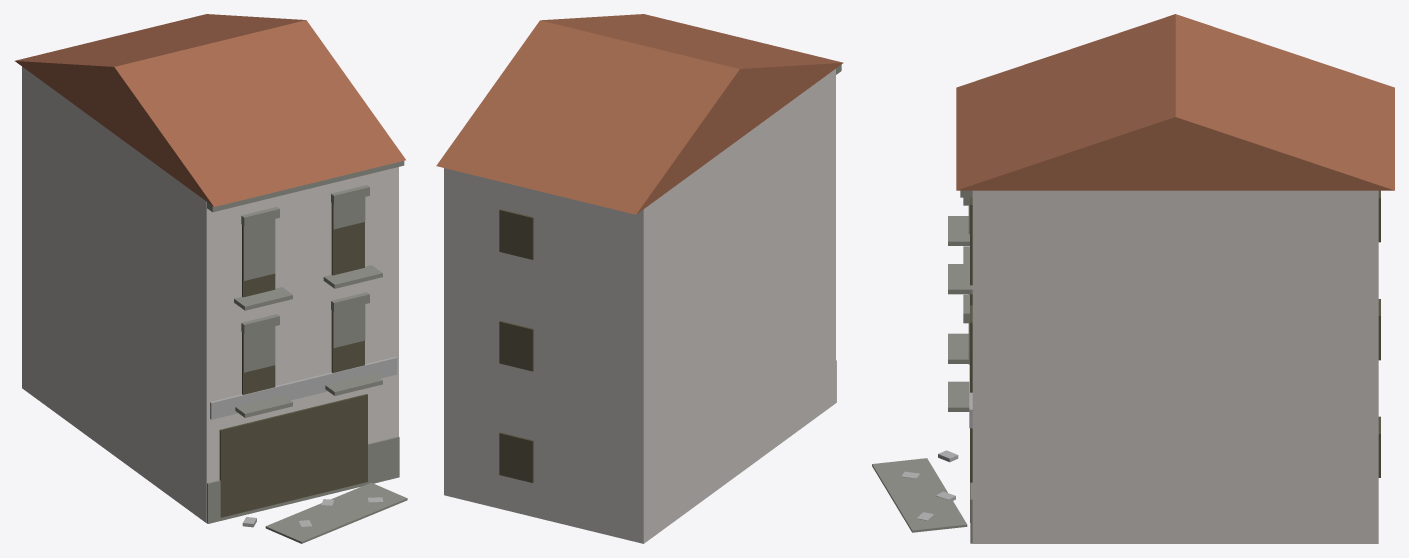
Rendered from SM_BajoComercial_v3_Saqueada_LOD1.fbx.
3 renders of one model, left to right at view 1: azimuth 30°, elevation 25°; view 2: azimuth 150°, elevation 25°; view 3: azimuth 270°, elevation 25°, orthographic. The views are drawn at different scales.
Visible parts, largest first — view 1: SM_pueblo_valenciano_v8_LOD1; view 2: SM_pueblo_valenciano_v8_LOD1; view 3: SM_pueblo_valenciano_v8_LOD1.
Boxes of the visible parts, x1=… form: SM_pueblo_valenciano_v8_LOD1: x1=15, y1=14, x2=407, y2=543; SM_pueblo_valenciano_v8_LOD1: x1=436, y1=14, x2=843, y2=543; SM_pueblo_valenciano_v8_LOD1: x1=872, y1=14, x2=1394, y2=543.
Size of the model in its own units: 6 by 11.6 by 12.87.
